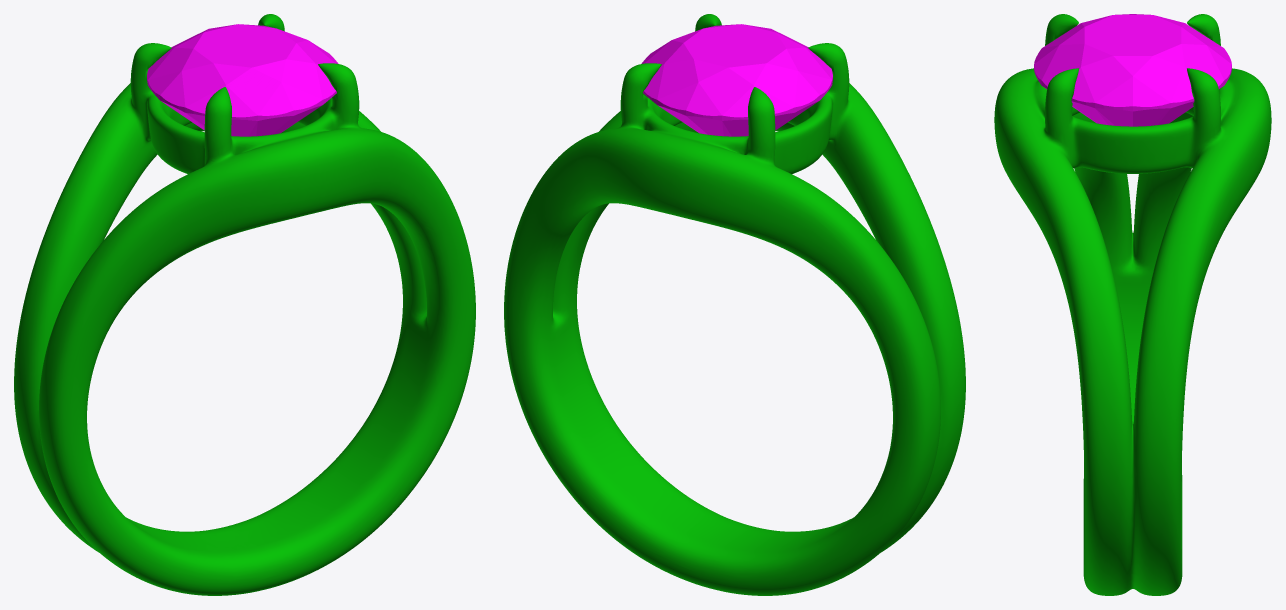
File: BE1732_RD_200ct_RENDER.glb
The picture shows the model from 3 angles, left to right: view 1: azimuth 30°, elevation 25°; view 2: azimuth 150°, elevation 25°; view 3: azimuth 270°, elevation 25°; orthographic projection.
Parts seen in each view (by area): view 1: Metal 01, CS_Diamond_Round; view 2: Metal 01, CS_Diamond_Round; view 3: Metal 01, CS_Diamond_Round.
Part boxes in pixels (bbox=[...]): Metal 01: bbox=[14, 14, 475, 595]; CS_Diamond_Round: bbox=[147, 24, 338, 136]; Metal 01: bbox=[504, 14, 965, 595]; CS_Diamond_Round: bbox=[641, 24, 832, 136]; Metal 01: bbox=[994, 14, 1271, 595]; CS_Diamond_Round: bbox=[1034, 14, 1231, 126].
Size of the model in its own units: 20.1 by 23.97 by 11.2.
